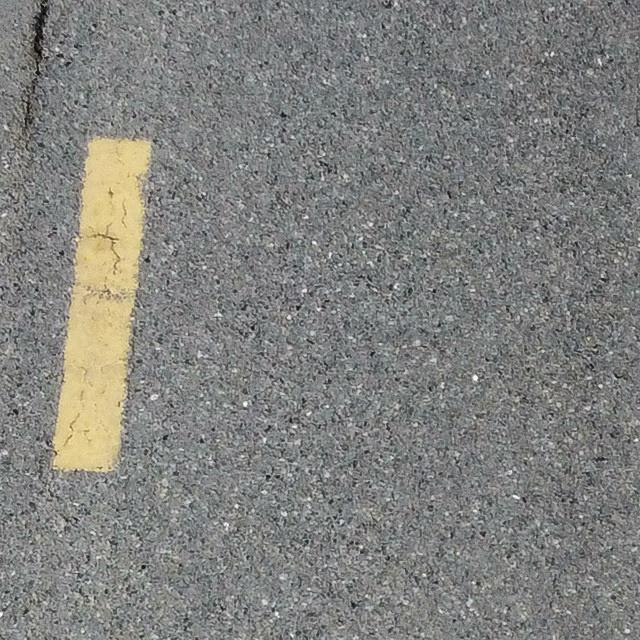LongitudinalCrack: (19, 1, 52, 128)
